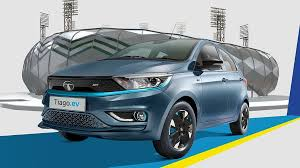Tiago: (36, 36, 254, 158)
